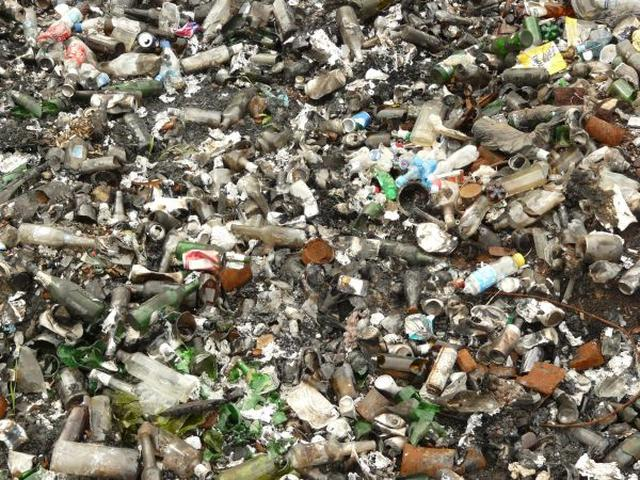garbage: (13, 16, 621, 473)
